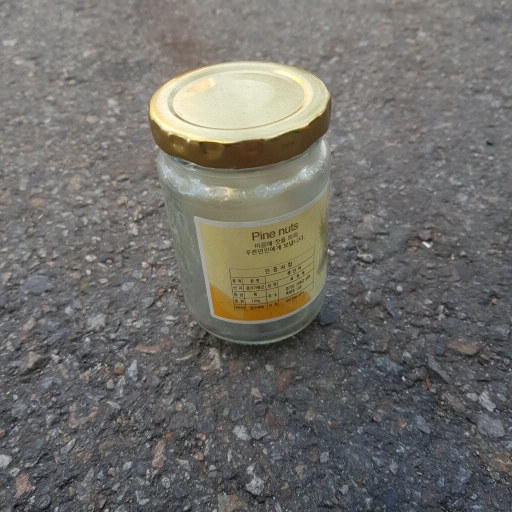Glass_5: (144, 72, 345, 349)
